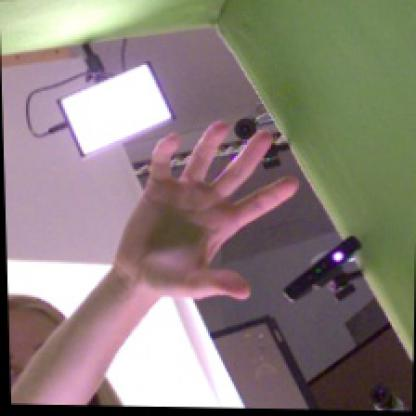Hand: (113, 120, 302, 303)
